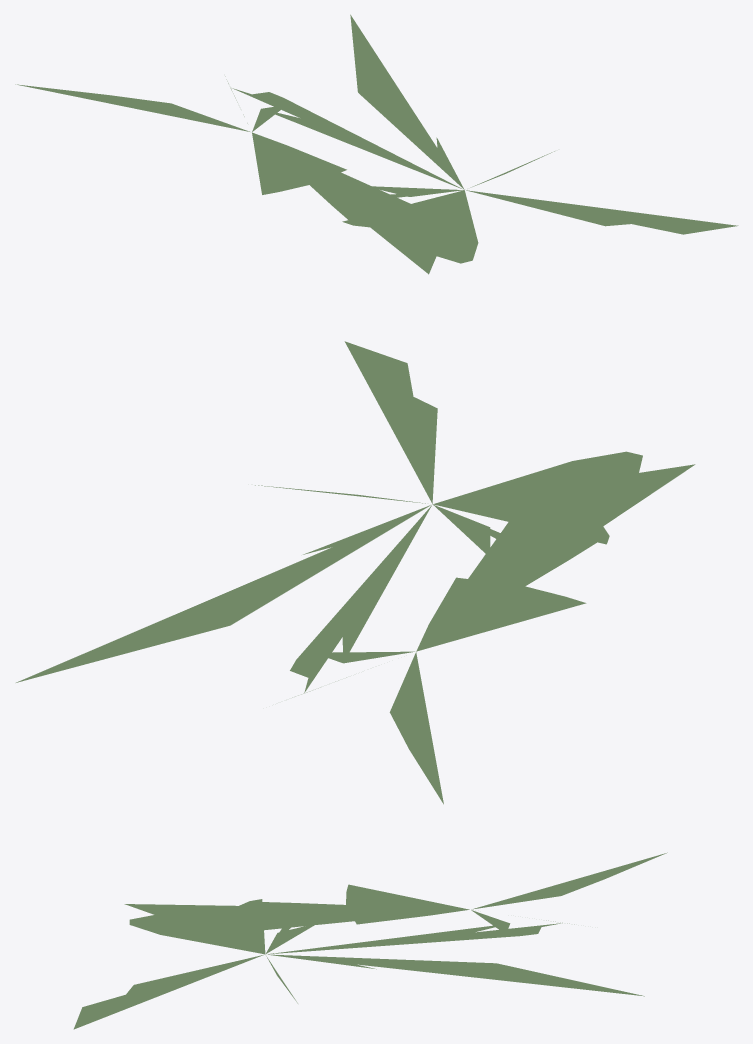
The model's file is c_1647_17832_parks.glb.
The picture shows the model from 3 angles, top to bottom: view 1: azimuth 30°, elevation 25°; view 2: azimuth 150°, elevation 25°; view 3: azimuth 270°, elevation 25°; orthographic projection. The views are drawn at different scales.
Parts seen in each view (by area): view 1: geometry_0; view 2: geometry_0; view 3: geometry_0.
Boxes of the visible parts, box(x1,y1,x2,y2) form: geometry_0: box(15, 14, 738, 274); geometry_0: box(16, 341, 695, 804); geometry_0: box(73, 852, 667, 1029).
Bounding box in the file's own units: 315 × 0 × 544.
